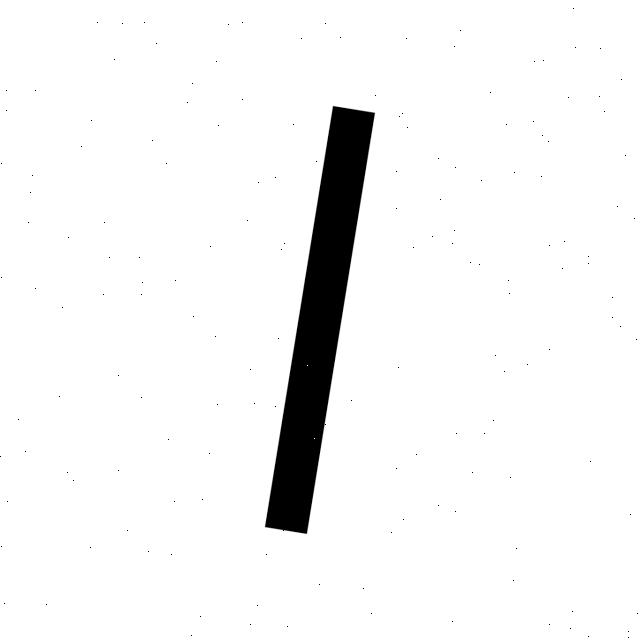line: (265, 106, 376, 534)
